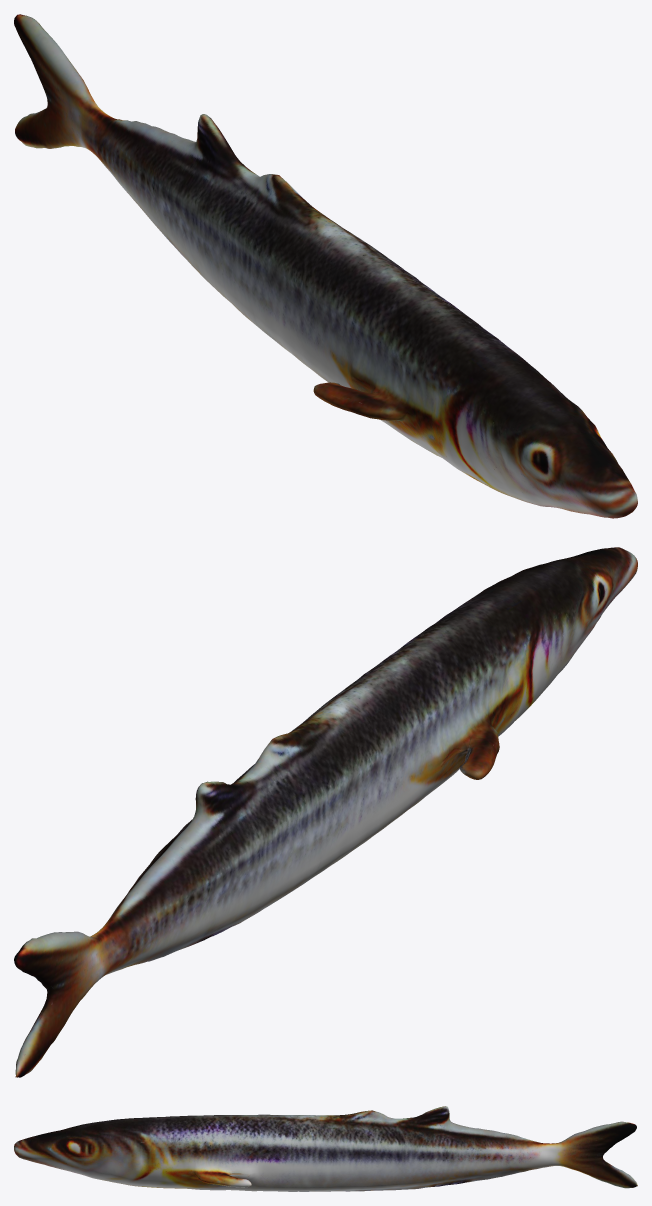
File: Sanchoi.fbx
3 views of the same model, one above another, from view 1: azimuth 30°, elevation 25°; view 2: azimuth 150°, elevation 25°; view 3: azimuth 270°, elevation 25° (orthographic). The views are drawn at different scales.
Parts seen in each view (by area): view 1: mesh; view 2: mesh; view 3: mesh.
Part boxes in pixels (left/top/right/bottom): mesh: left=14, top=14, right=637, bottom=518; mesh: left=14, top=547, right=637, bottom=1077; mesh: left=14, top=1106, right=637, bottom=1191.
Bounding box in the file's own units: 16.05 × 15.02 × 99.67.
